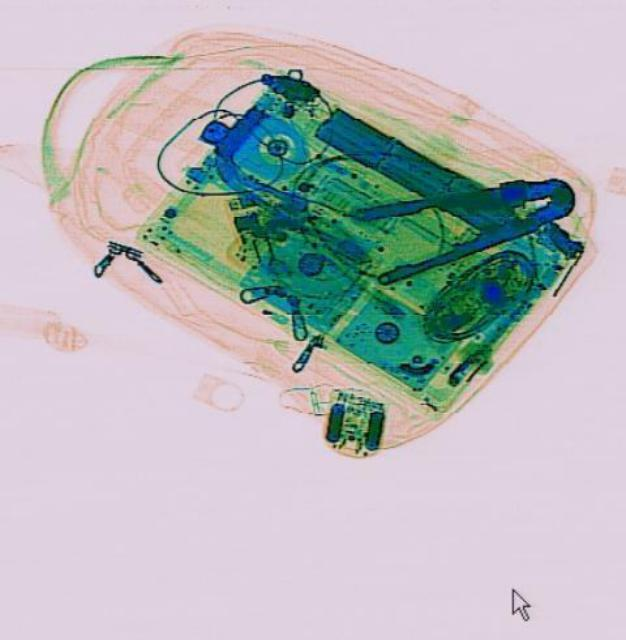Pliers: (353, 154, 584, 286)
